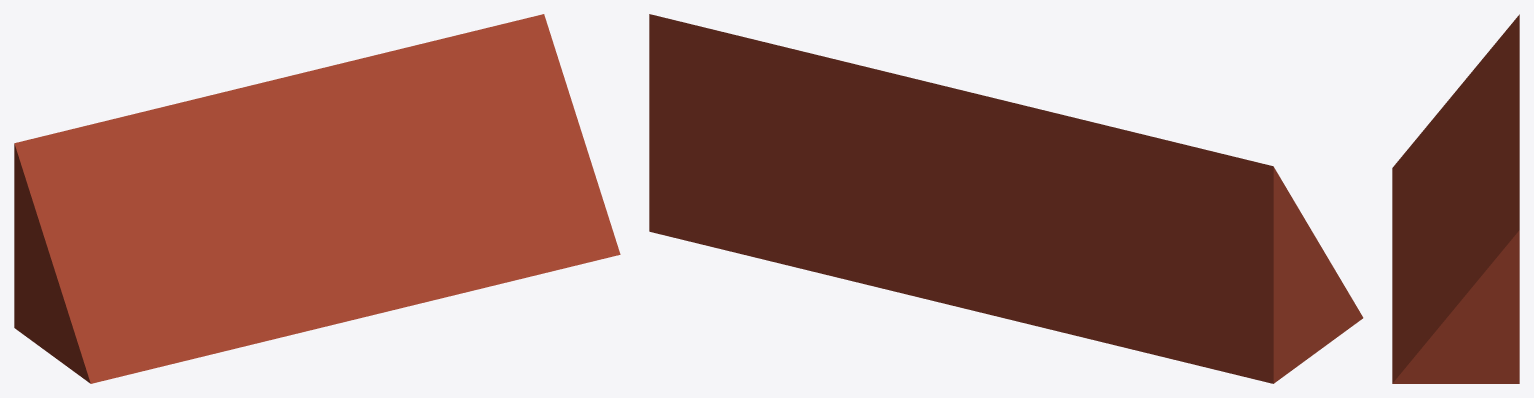
Rendered from Dach_Skos_Gora.fbx.
3 views of the same model, side by side, from view 1: azimuth 30°, elevation 25°; view 2: azimuth 150°, elevation 25°; view 3: azimuth 270°, elevation 25° (orthographic). The views are drawn at different scales.
Parts seen in each view (by area): view 1: Dach_Skos_Gora; view 2: Dach_Skos_Gora; view 3: Dach_Skos_Gora.
Part boxes in pixels (x1=…): Dach_Skos_Gora: x1=14, y1=14, x2=620, y2=383; Dach_Skos_Gora: x1=649, y1=14, x2=1363, y2=383; Dach_Skos_Gora: x1=1392, y1=14, x2=1519, y2=383.
Size of the model in its own units: 3 by 1 by 0.75.
